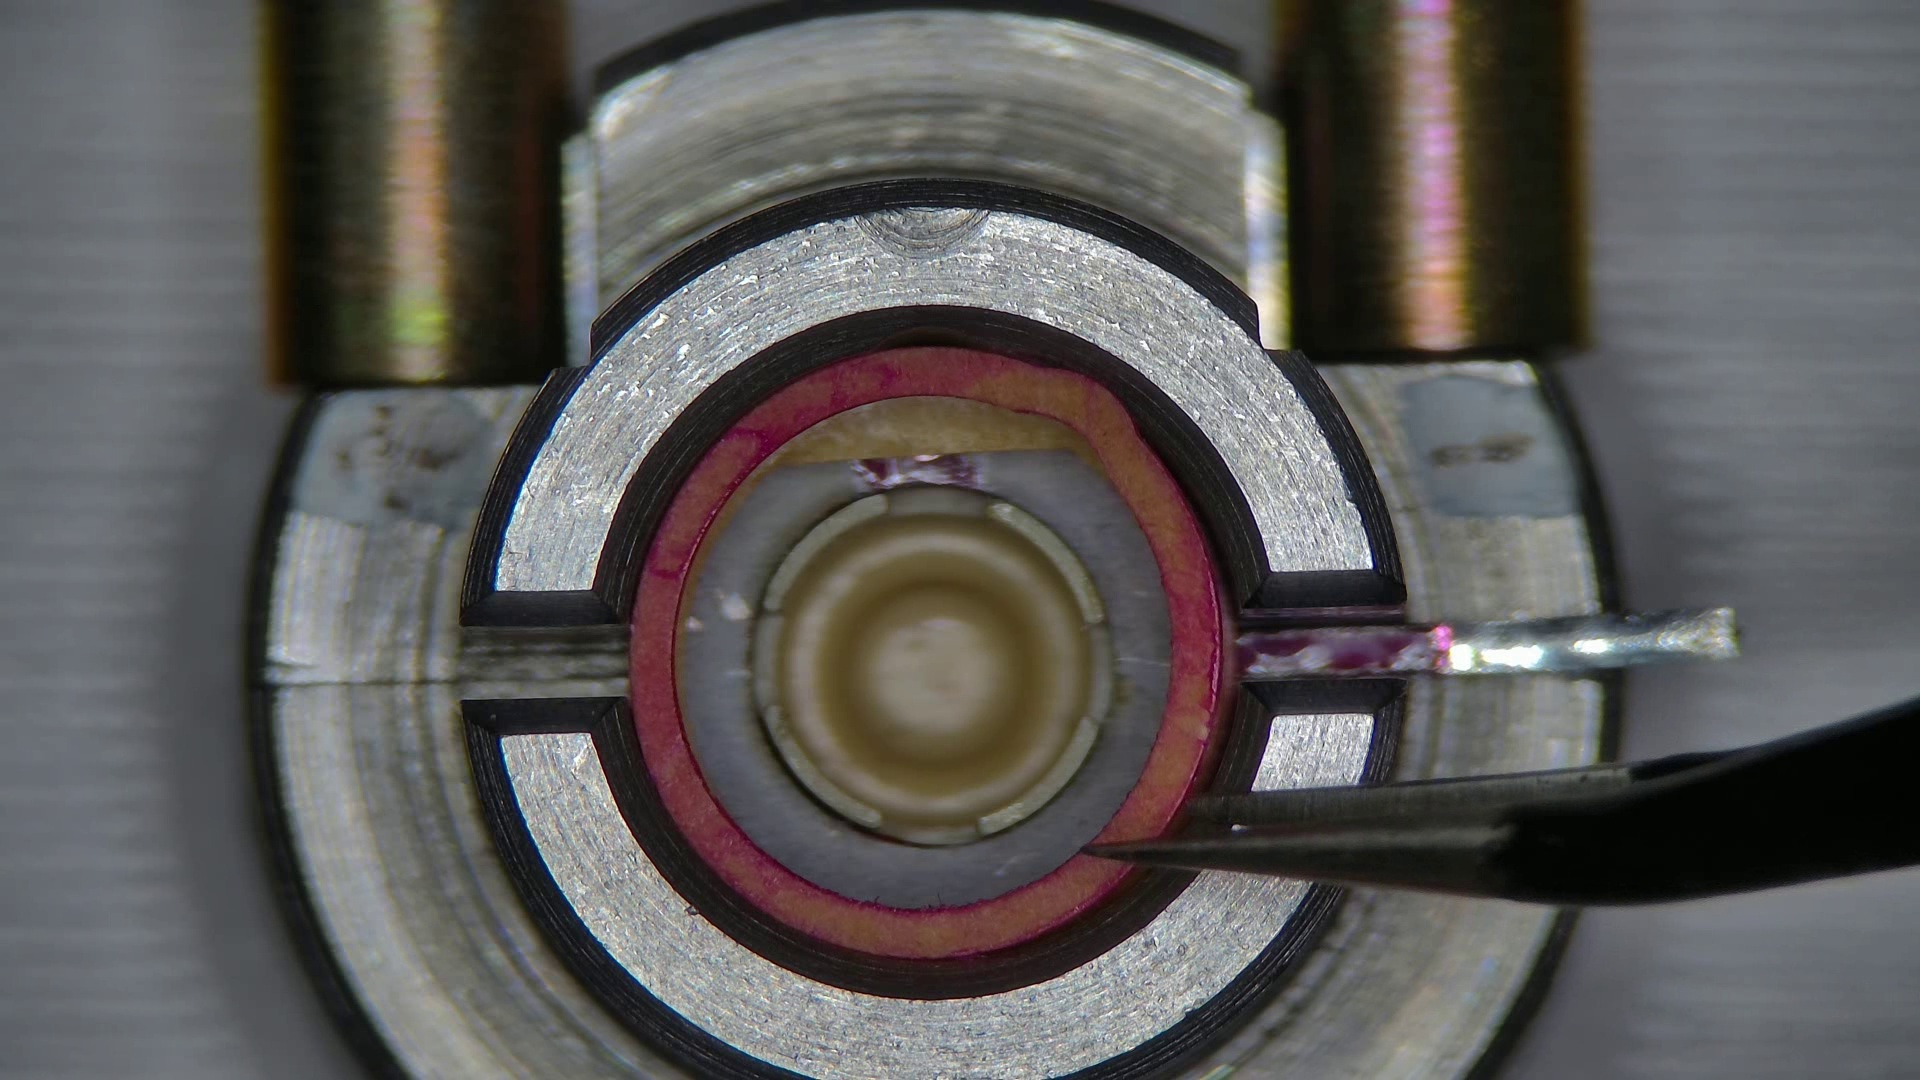GreyOring: (632, 344, 1222, 956)
YellowOring: (680, 454, 1168, 906)
redOring: (676, 396, 1092, 723), (688, 736, 691, 752)
